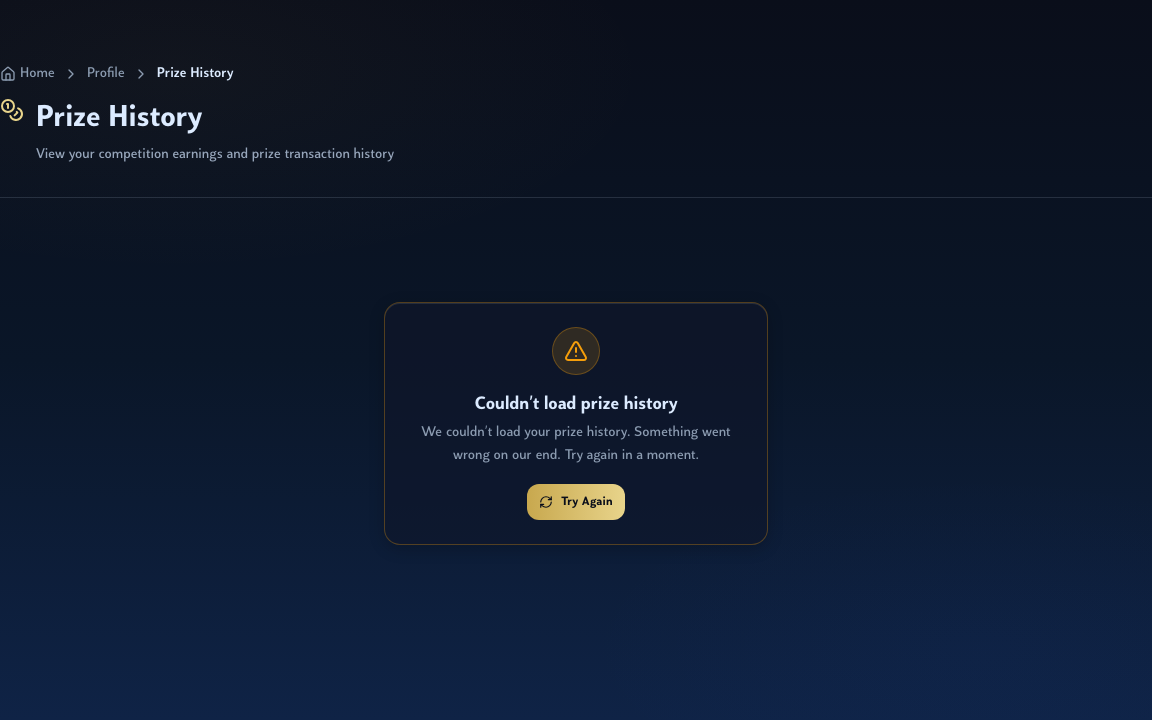
PrizeHistoryPage › Edge Cases › handles API error with retry button
The image size is (1152, 720).
Expected: the element with test id "stats-error" is shown, [384,302,768,544]
Note: Click retry (canonical ErrorState renders "Try Again").
Click the button "Try Again": (576,502) [527,484,625,520]
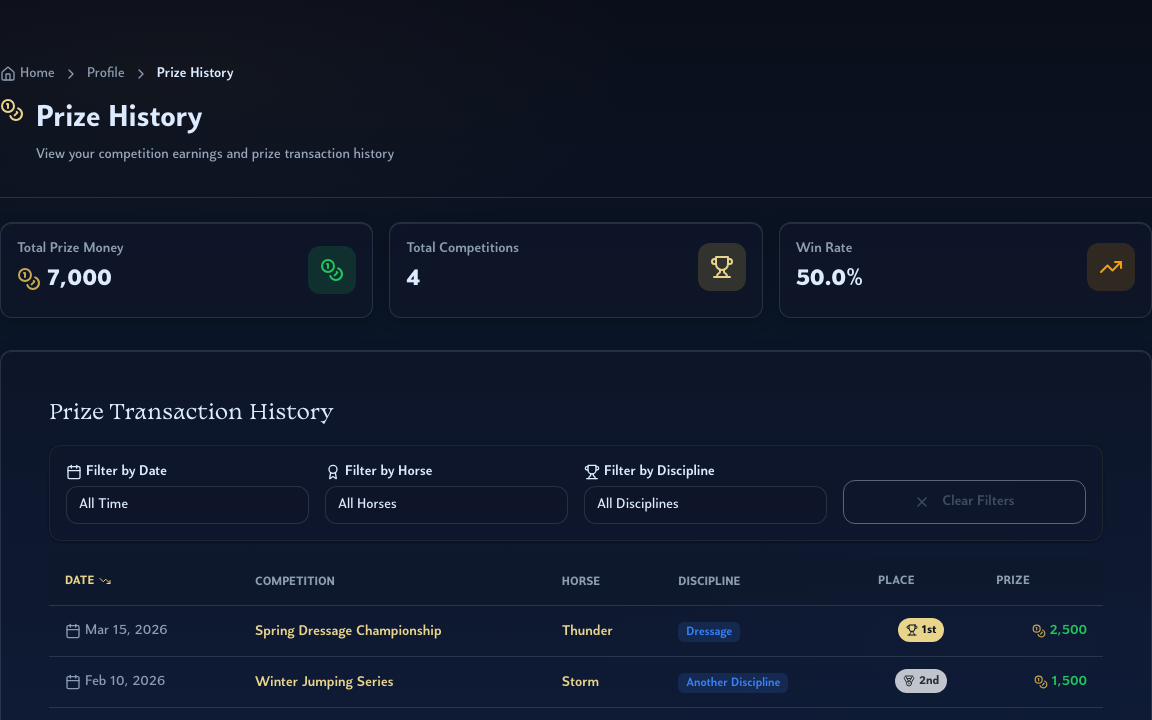
Now the element with test id "stat-total-prize-money" is shown, box [0,222,373,318]
